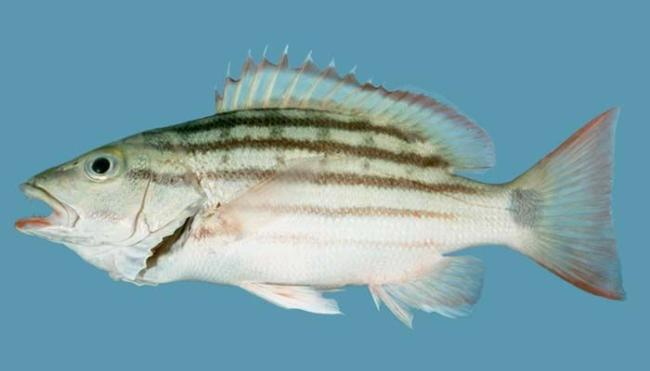fish: (14, 42, 627, 330)
